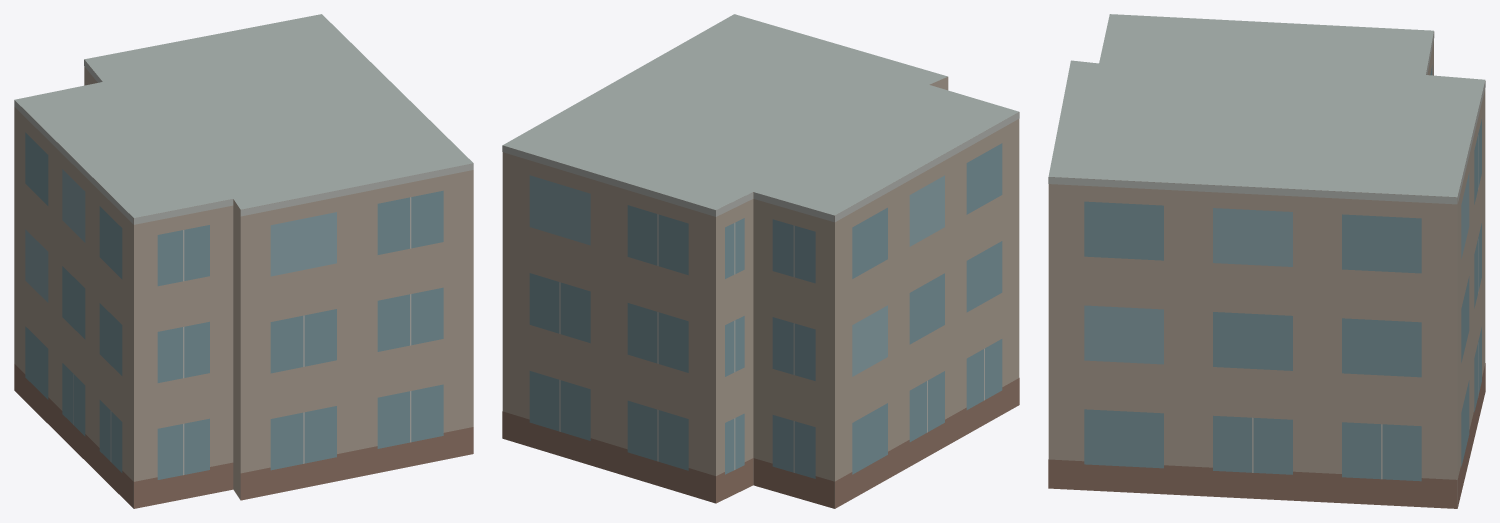
The model's file is survey-upis-32471822.glb.
3 views of the same model, side by side, from view 1: azimuth 30°, elevation 25°; view 2: azimuth 150°, elevation 25°; view 3: azimuth 270°, elevation 25° (orthographic). The views are drawn at different scales.
Parts seen in each view (by area): view 1: survey-upis-32471822.tmp; view 2: survey-upis-32471822.tmp; view 3: survey-upis-32471822.tmp.
Part boxes in pixels (bbox=[...]): survey-upis-32471822.tmp: bbox=[14, 14, 473, 508]; survey-upis-32471822.tmp: bbox=[502, 14, 1019, 508]; survey-upis-32471822.tmp: bbox=[1048, 14, 1485, 508].
Size of the model in its own units: 13.31 by 10.55 by 13.42.
